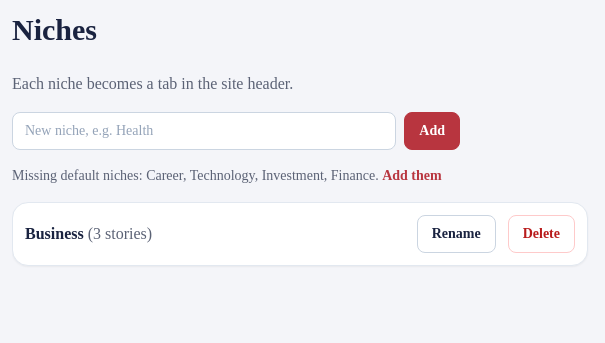
it: Niches admin page › shows API errors
This screenshot has width=605, height=343.
Expected: the text "Business" is shown, top-left (25, 225), bottom-right (84, 242)
Type "Business" into the field named "Niche name" at [204, 131], box top-left (12, 112), bottom-right (396, 150)
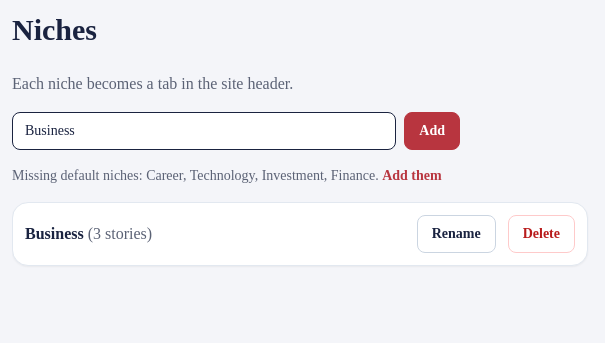
Click the button "Add" at [432, 131], box top-left (404, 112), bottom-right (460, 150)
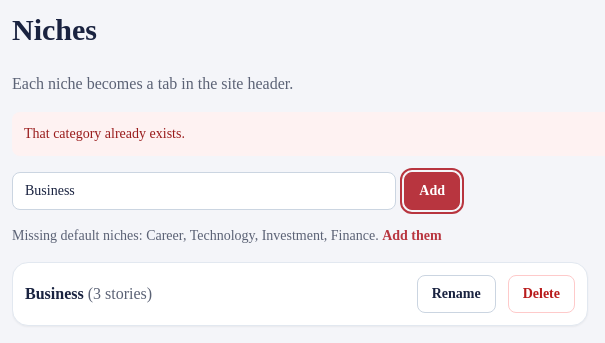
Expected: the message shows "already exists", top-left (24, 126), bottom-right (185, 141)
